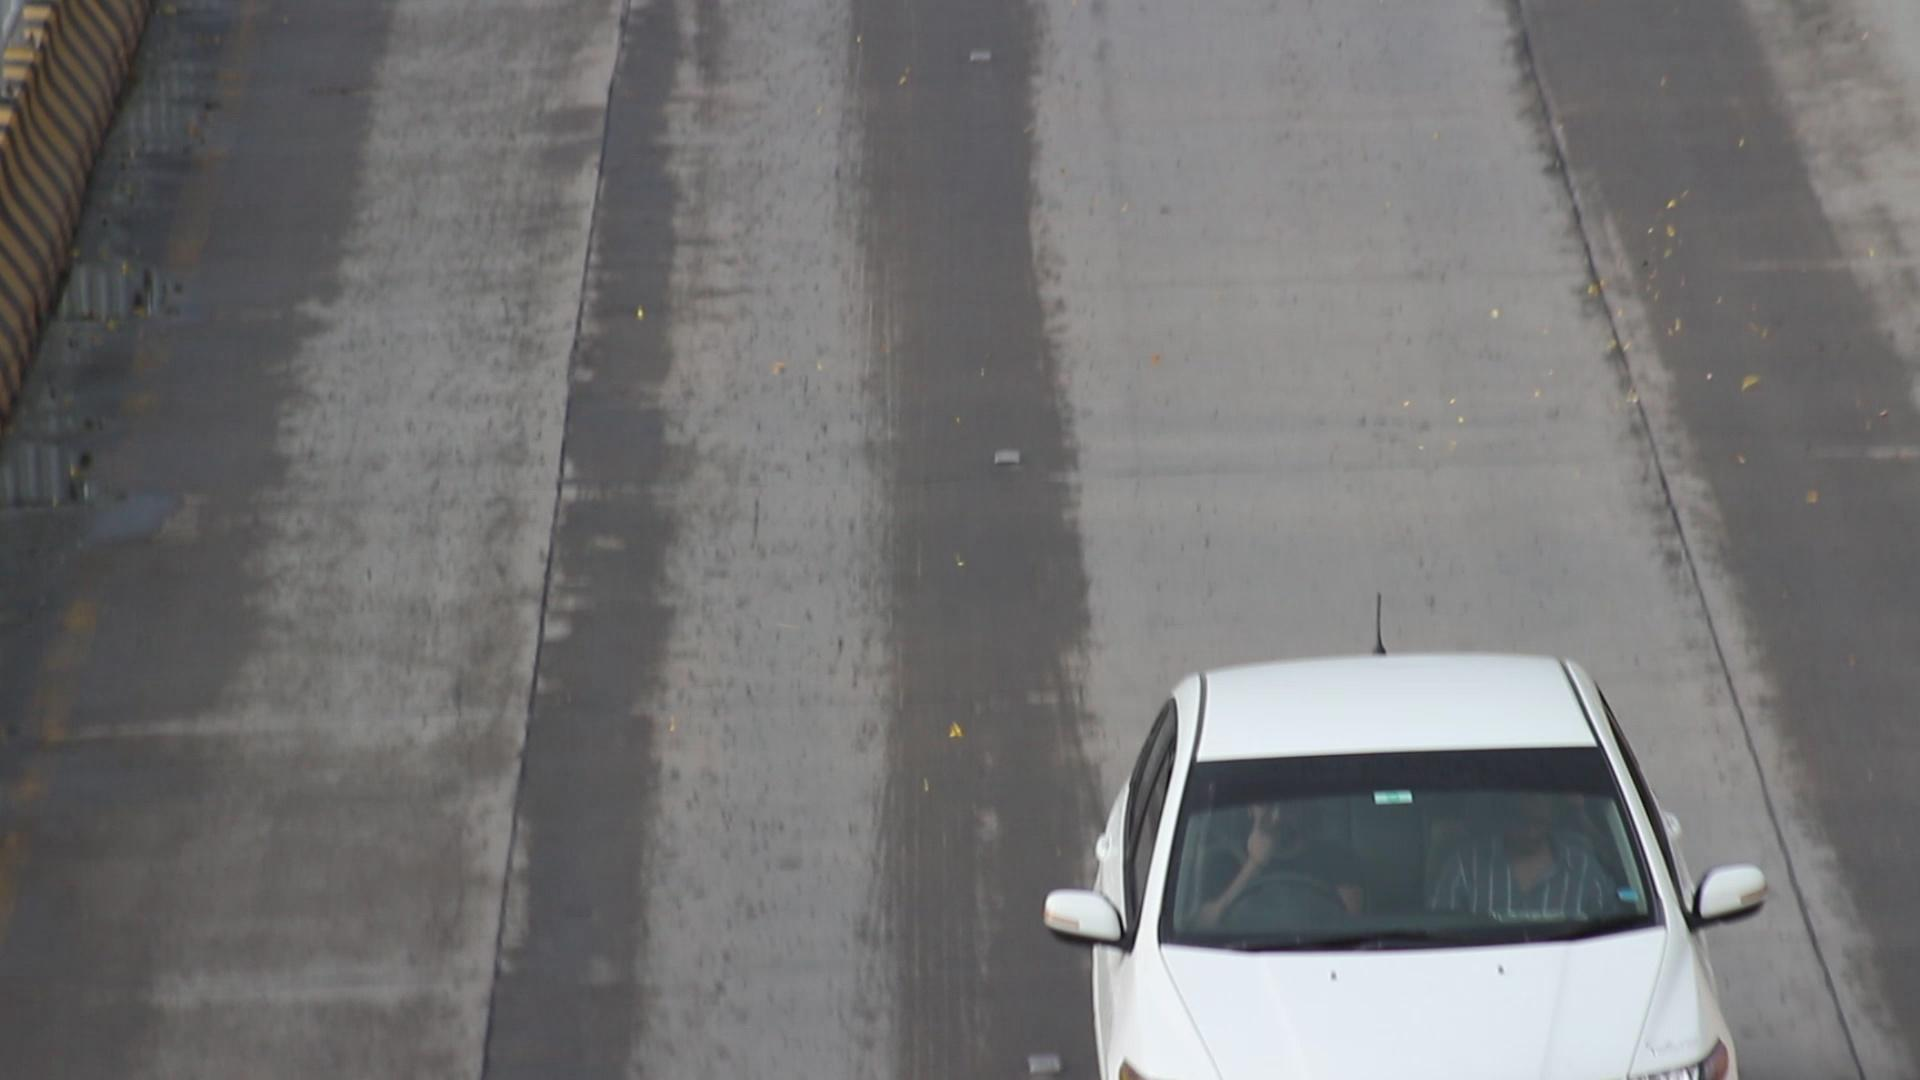windshield: (1137, 737, 1680, 956)
